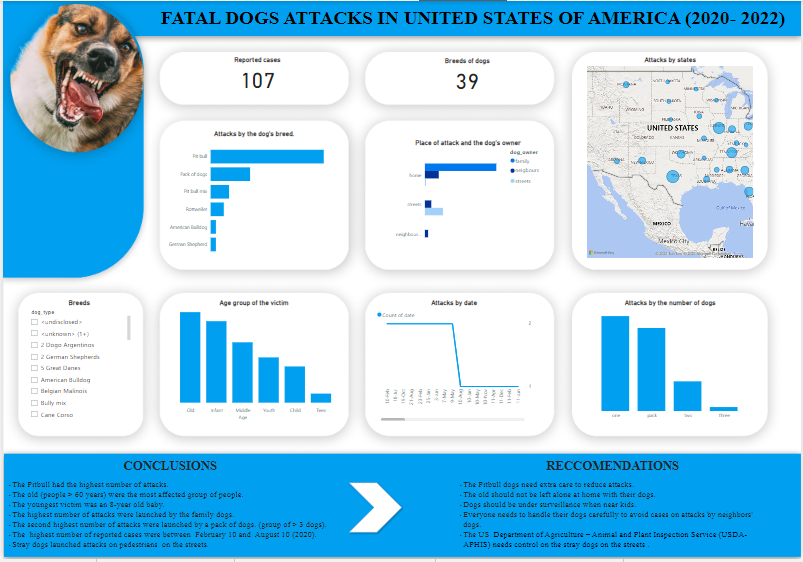

The page's visual inventory and layout, read from the dashboard file:
{"tool":"powerbi","page":{"name":" Dashboard","canvas":[2000,1400],"ordinal":6},"visuals":[{"type":"lineChart","title":"Attacks by date","fields":{"Y":["CountNonNull(dogs_attacks (2).date)"],"Category":["dogs_attacks (2).date"],"Y2":["CountNonNull(dogs_attacks (2).date)"]},"box":[934.3,746.9,396.9,311.4],"z":0},{"type":"barChart","title":"Attacks by the dog''s breed.","fields":{"Category":["dogs_attacks (2).dog_type"],"Y":["CountNonNull(dogs_attacks (2).dog_type)"]},"box":[405.1,322.4,452,328],"z":1000},{"type":"clusteredBarChart","title":"Place of attack and the dog''s owner","fields":{"Category":["dogs_attacks (2).attack_site"],"Y":["CountNonNull(dogs_attacks (2).attack_site)"],"Series":["dogs_attacks (2).dog_owner"]},"box":[967.3,347.2,396.9,303.1],"z":2000},{"type":"columnChart","title":"Attacks by the number of dogs","fields":{"Category":["dogs_attacks (2).Number of dogs "],"Y":["CountNonNull(dogs_attacks (2).Number of dogs )"]},"box":[1460.6,746.9,427.2,311.4],"z":3000},{"type":"columnChart","title":"Age group of the victim","fields":{"Category":["dogs_attacks (2).victim's age group "],"Y":["CountNonNull(dogs_attacks (2).victim's age group )"]},"box":[405.1,746.9,452,311.4],"z":4000},{"type":"textbox","box":[350,8.3,1650.8,77.2],"z":5000},{"type":"textbox","box":[0,1140.9,2000.8,460.2],"z":6000},{"type":"card","title":"Reported cases","fields":{"Values":["CountNonNull(dogs_attacks (2).dog_type)"]},"box":[405.1,137.8,468.5,90.9],"z":7000},{"type":"slicer","title":"Breeds","fields":{"Values":["dogs_attacks (2).dog_type"]},"box":[57.9,746.9,267.3,311.4],"z":8000},{"type":"map","title":"Attacks by states","fields":{"Category":["dogs_attacks (2).state"],"Size":["CountNonNull(dogs_attacks (2).state)"]},"box":[1460.6,137.8,427.2,512.6],"z":9000},{"type":"card","title":"Breeds of dogs","fields":{"Values":["Count(dogs_attacks (2).dog_type)"]},"box":[934.3,140.6,463,88.2],"z":11000},{"type":"shape","box":[857.1,1198.8,151.6,143.3],"z":11001},{"type":"textbox","box":[1132.7,1140.4,796.2,259.6],"z":11002},{"type":"textbox","box":[0,1140.8,831.6,259.2],"z":11003}]}

Visuals, with their boxes in screenshot pixels (x1, y1, x2, y2), scaled from the page's 2000x1400 canvas onto the 803x562 screenshot:
"Attacks by date" lineChart: <region>375, 300, 534, 425</region>
"Attacks by the dog''s breed." barChart: <region>163, 129, 344, 261</region>
"Place of attack and the dog''s owner" clusteredBarChart: <region>388, 139, 548, 261</region>
"Attacks by the number of dogs" columnChart: <region>586, 300, 758, 425</region>
"Age group of the victim" columnChart: <region>163, 300, 344, 425</region>
textbox: <region>141, 3, 802, 34</region>
textbox: <region>0, 458, 802, 561</region>
"Reported cases" card: <region>163, 55, 351, 92</region>
"Breeds" slicer: <region>23, 300, 131, 425</region>
"Attacks by states" map: <region>586, 55, 758, 261</region>
"Breeds of dogs" card: <region>375, 56, 561, 92</region>
shape: <region>344, 481, 405, 539</region>
textbox: <region>455, 458, 774, 561</region>
textbox: <region>0, 458, 334, 561</region>
